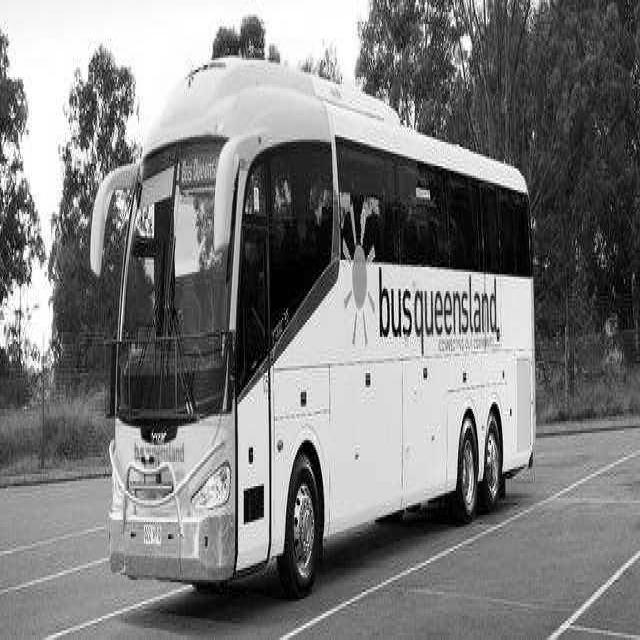Bus: (90, 57, 536, 594)
